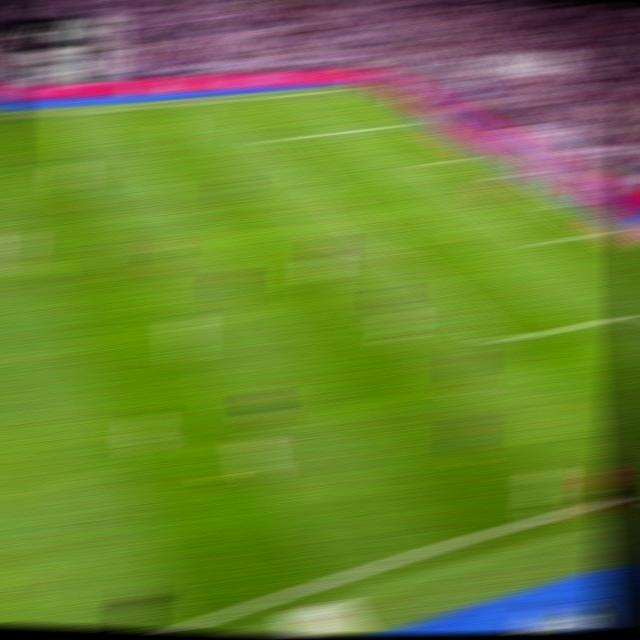bigarea_bottom_inner: (483, 330, 514, 354)
bigarea_top_inner: (255, 134, 281, 147)
bottom_arc_area_intersection: (384, 247, 413, 263)
corner: (345, 83, 372, 92)
smallarea_top_inner: (411, 158, 437, 169)
top_arc_area_intersection: (308, 179, 334, 192)
